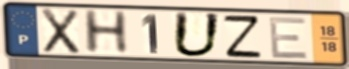1: (140, 13, 160, 55)
E: (266, 16, 310, 61)
H: (81, 8, 132, 55)
U: (171, 10, 224, 59)
X: (39, 7, 81, 56)
Z: (221, 14, 264, 58)
